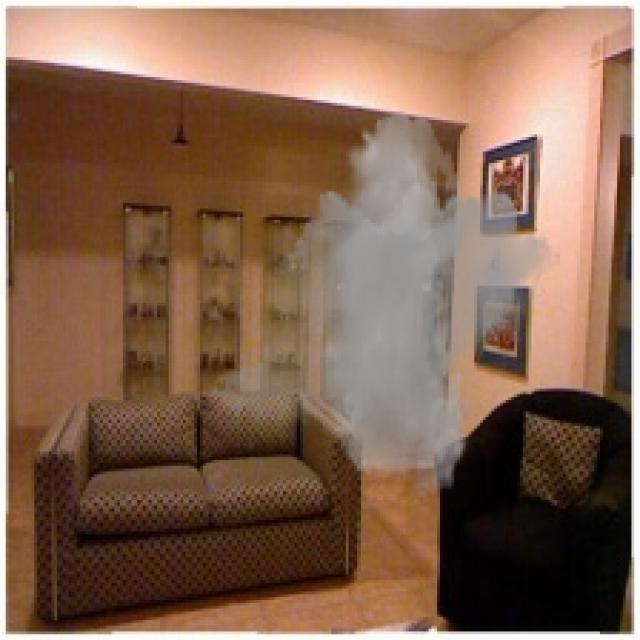Smoke: (208, 112, 563, 494)
